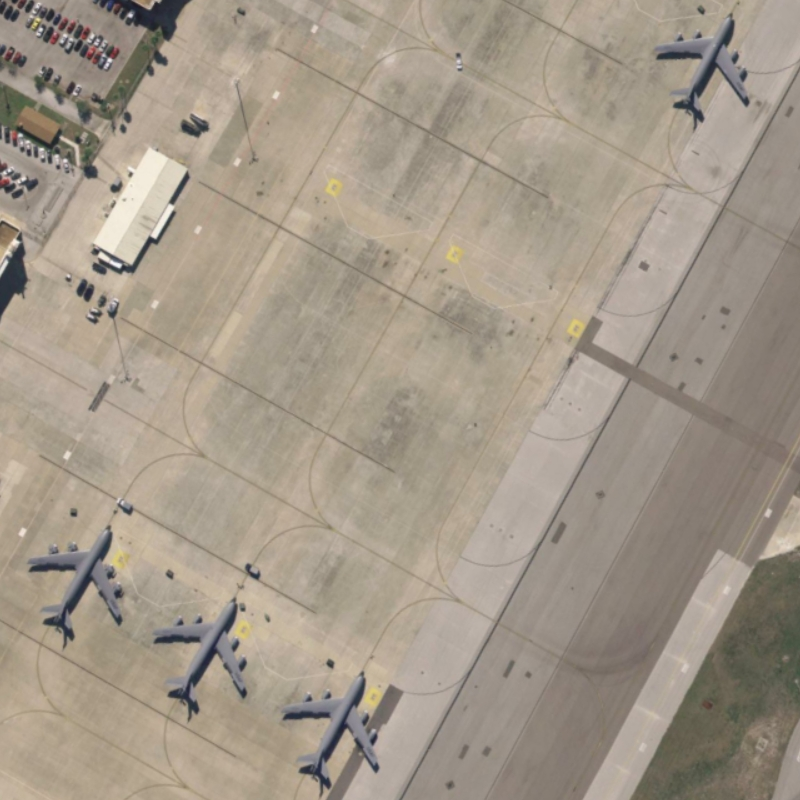A14: (646, 5, 757, 124), (276, 669, 386, 789), (145, 592, 255, 709), (21, 522, 129, 638)
